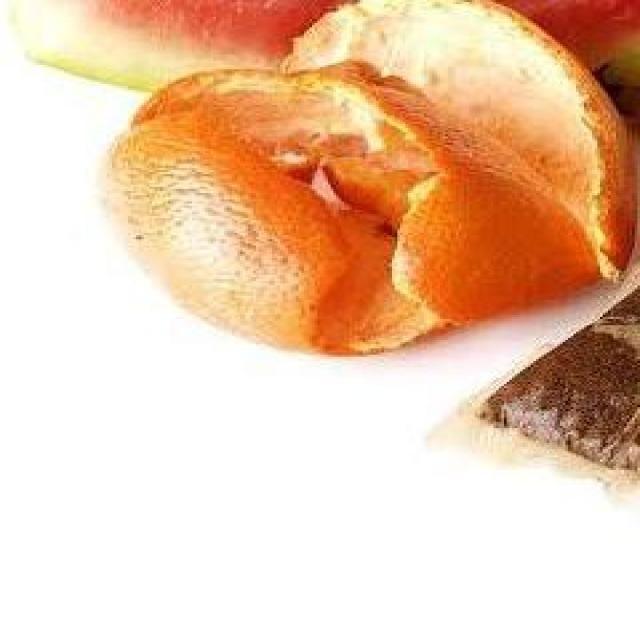food waste: (73, 0, 639, 379)
